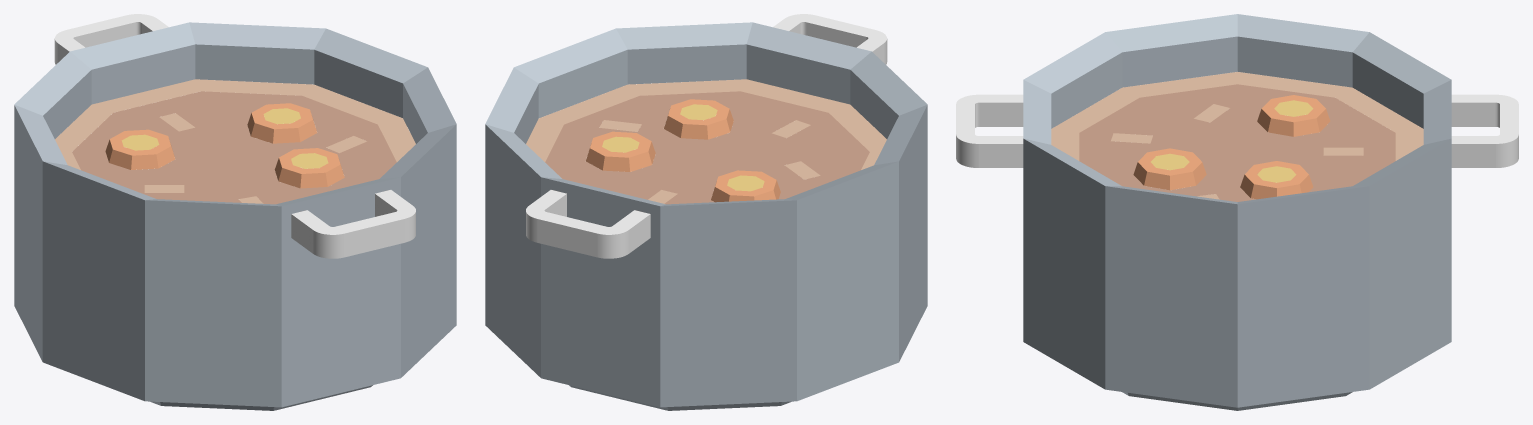
The model's file is pot-stew.glb.
3 views of the same model, side by side, from view 1: azimuth 30°, elevation 25°; view 2: azimuth 150°, elevation 25°; view 3: azimuth 270°, elevation 25° (orthographic).
Visible parts, largest first — view 1: potStew; view 2: potStew; view 3: potStew.
Boxes of the visible parts, box(x1,y1,x2,y2) form: potStew: box(14, 14, 456, 410); potStew: box(485, 14, 927, 410); potStew: box(956, 14, 1518, 410).
Size of the model in its own units: 0.6574 by 0.3607 by 0.8221.
